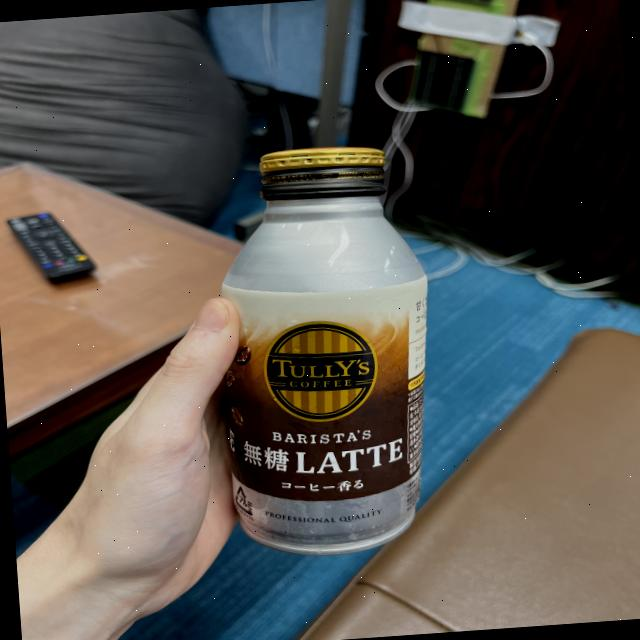coffee-latte: (202, 141, 446, 560)
